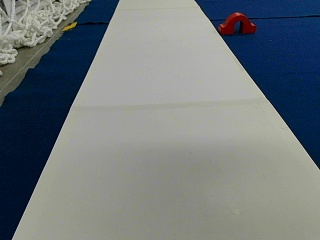bridge: (219, 12, 255, 33)
